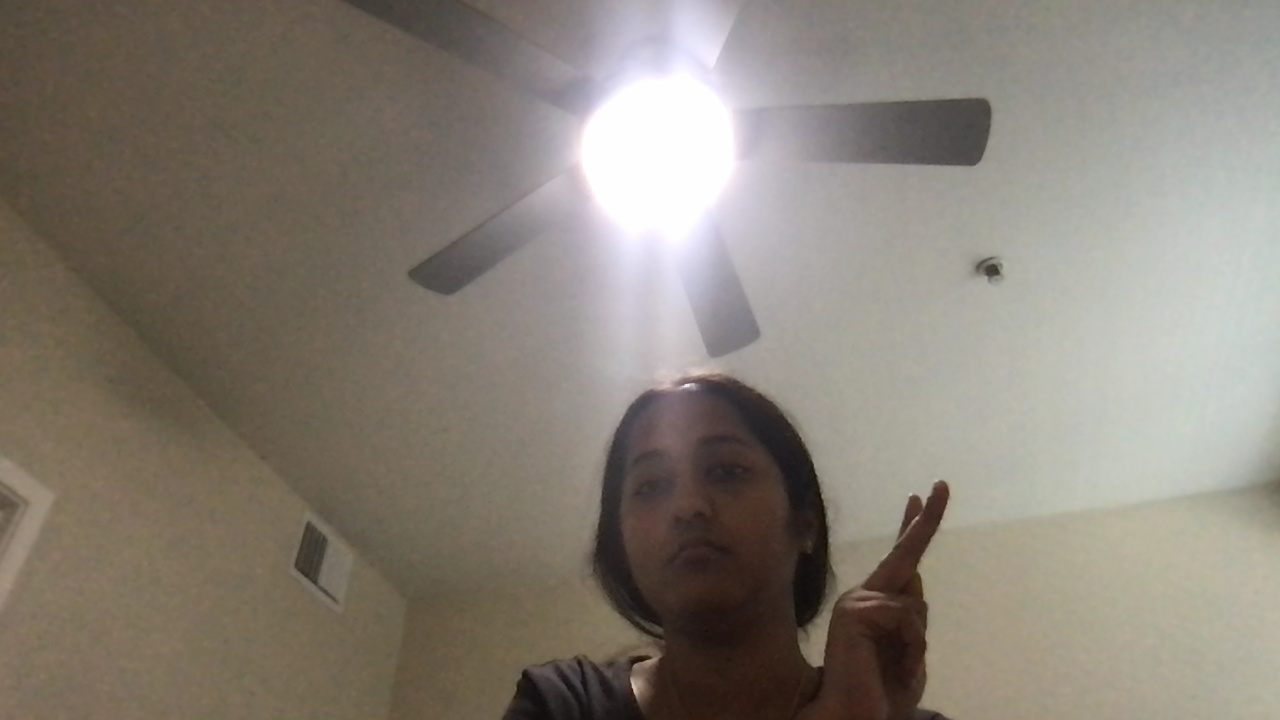k: (844, 471, 960, 696)
